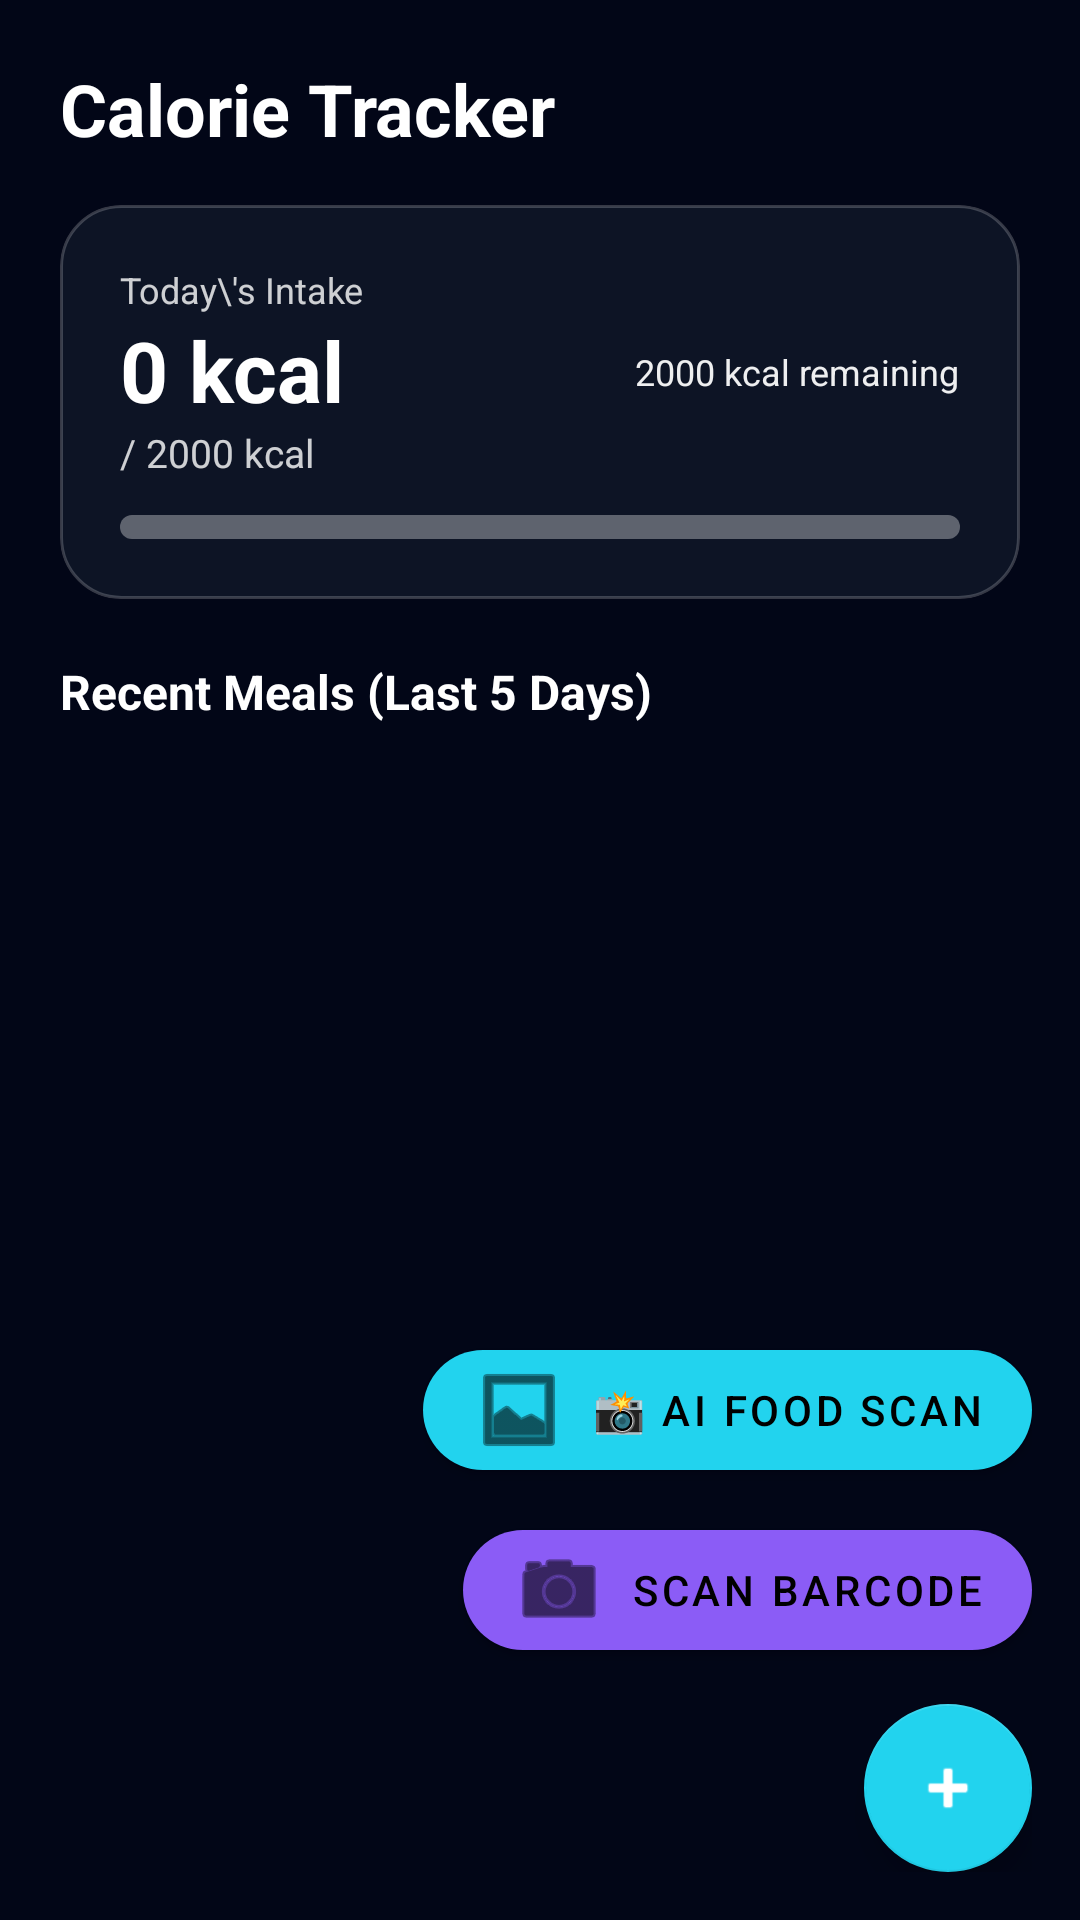

Locate icon controls on the screen. Image size 1080*1920, boxes as (x1, y1, x2, y2).
Add Meal: (864, 1704, 1032, 1872)
